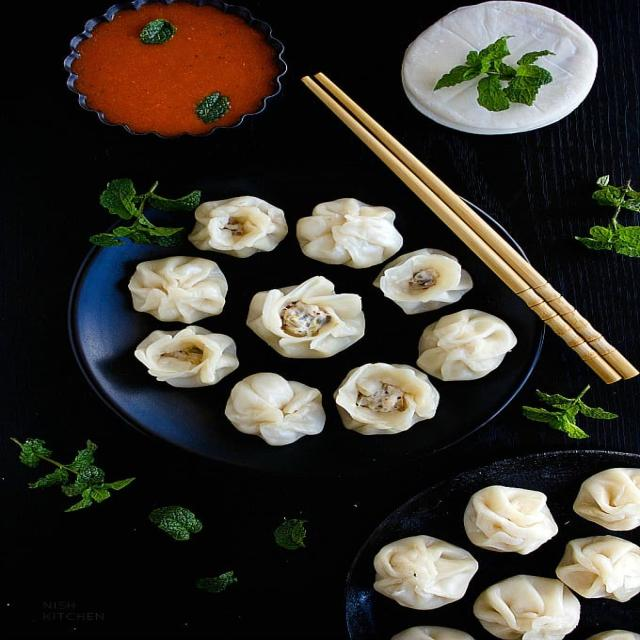momos: (120, 196, 496, 453), (373, 470, 636, 639)
